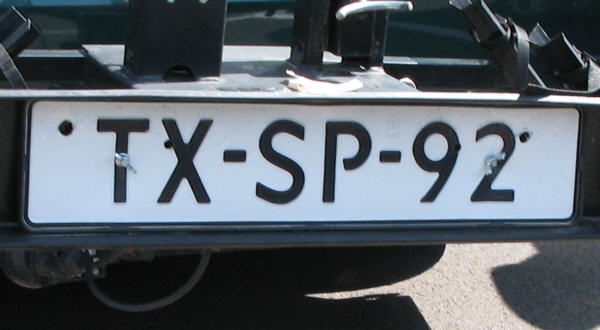license_plate: (23, 102, 581, 233)
